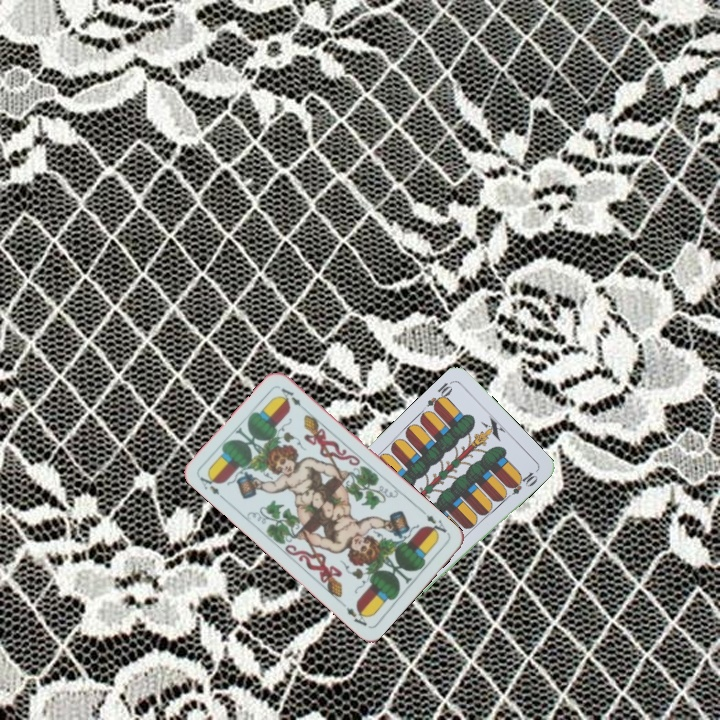E10: (423, 377, 455, 413)
EA: (196, 470, 229, 503), (422, 511, 449, 540)
